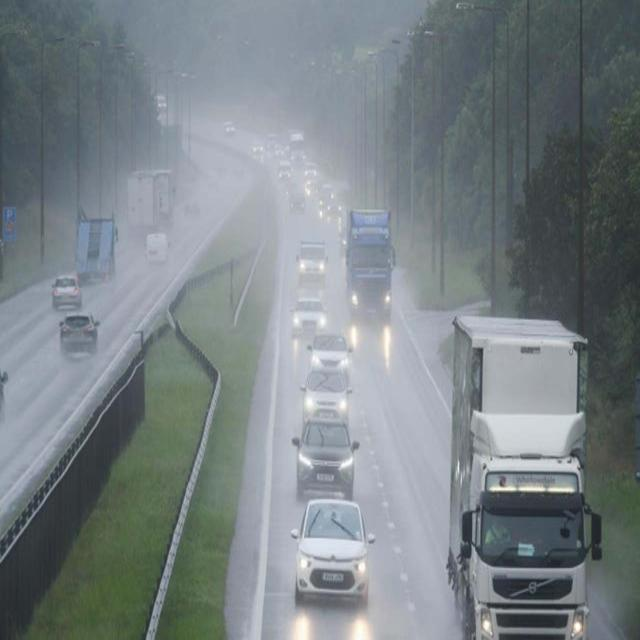bus: (452, 316, 600, 640), (346, 209, 394, 319), (73, 208, 117, 284), (127, 174, 155, 234), (157, 167, 175, 228), (287, 129, 305, 164)
car: (290, 498, 372, 602), (296, 415, 356, 499), (302, 362, 350, 423), (58, 312, 100, 353), (309, 332, 351, 369), (294, 241, 329, 285), (289, 298, 327, 338), (51, 274, 81, 311), (144, 229, 171, 266), (339, 222, 349, 258), (290, 194, 306, 216), (277, 162, 290, 185), (304, 161, 318, 180)
